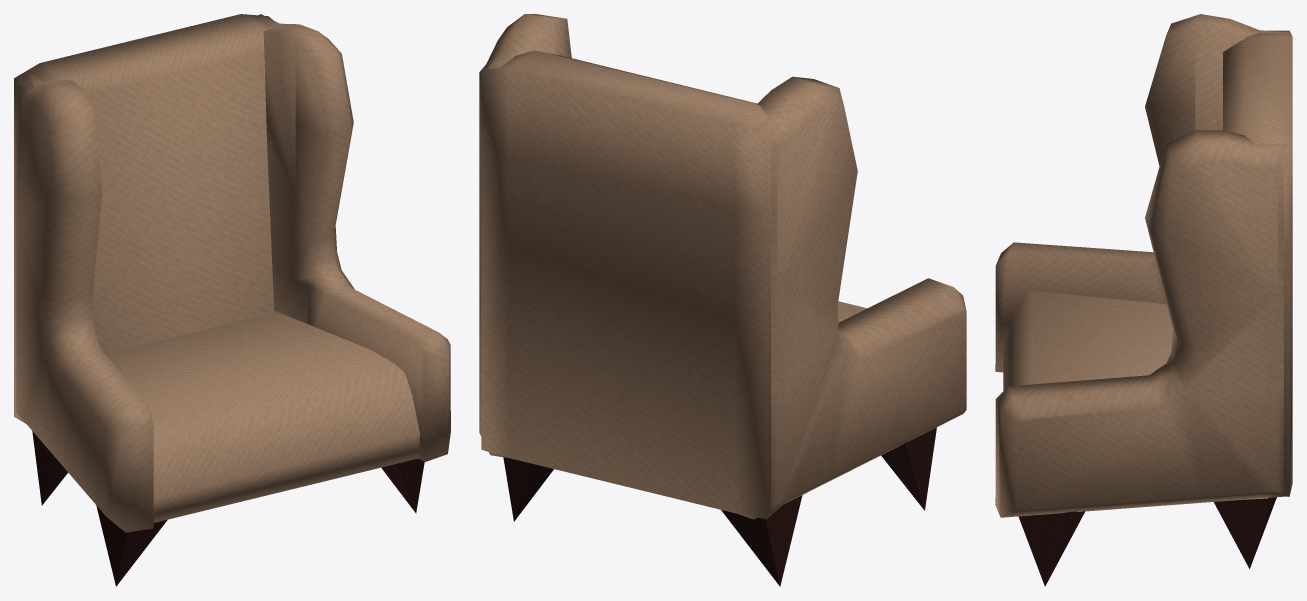
Rendered from Winged_Armchair_H_2.FBX.
3 views of the same model, side by side, from view 1: azimuth 30°, elevation 25°; view 2: azimuth 150°, elevation 25°; view 3: azimuth 270°, elevation 25° (orthographic). The views are drawn at different scales.
Visible parts, largest first — view 1: Winged_Armchair; view 2: Winged_Armchair; view 3: Winged_Armchair.
Boxes of the visible parts, left/top/right/bottom form: Winged_Armchair: left=14, top=14, right=450, bottom=586; Winged_Armchair: left=479, top=14, right=966, bottom=586; Winged_Armchair: left=995, top=14, right=1292, bottom=586.
Bounding box in the file's own units: 174 × 208 × 129.
